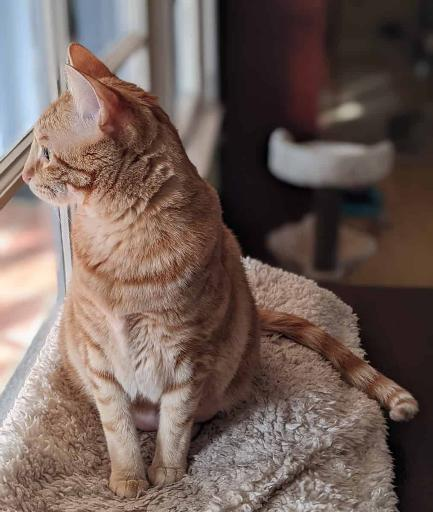cat_sitting: (23, 42, 418, 498)
